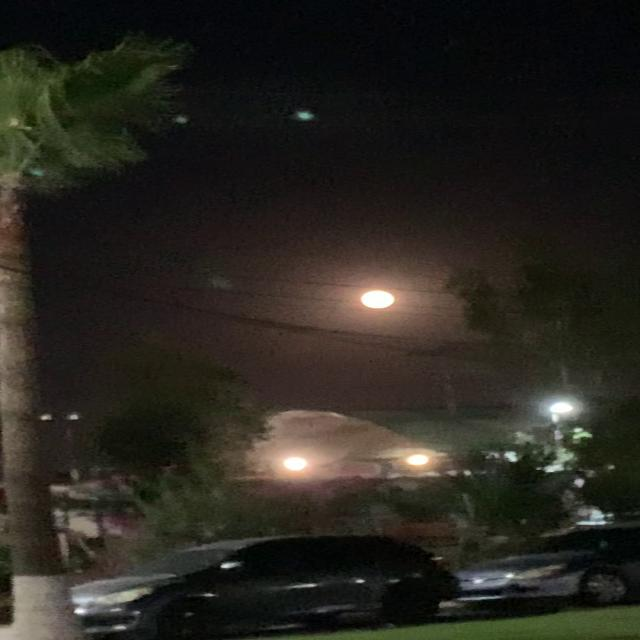moon: (347, 288, 405, 316)
